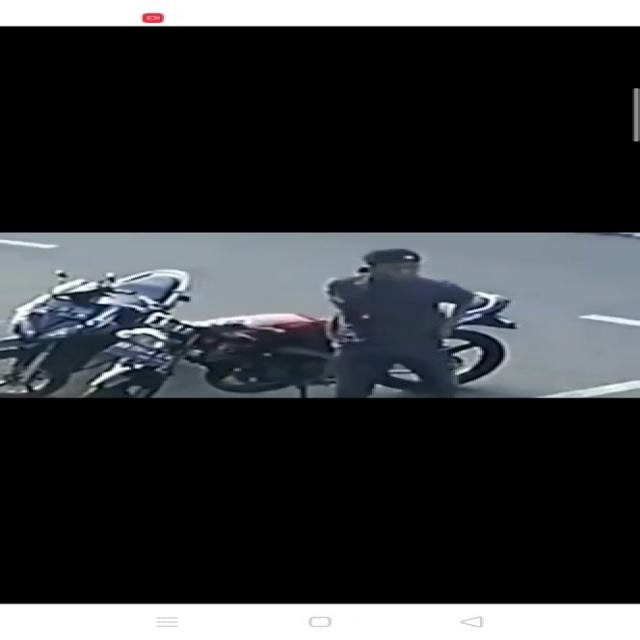pencurian: (83, 247, 522, 395)
